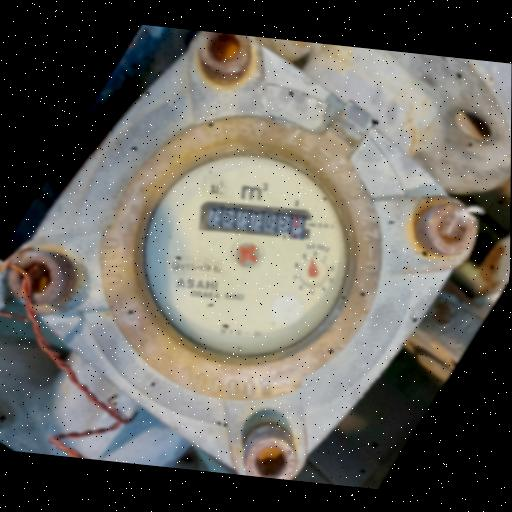0: (264, 210, 276, 231)
5: (222, 207, 234, 228), (278, 212, 290, 233)
7: (207, 205, 221, 226), (250, 209, 262, 230), (237, 208, 248, 229)
8: (291, 214, 303, 240)
border_water_meter_number: (198, 198, 315, 242)
